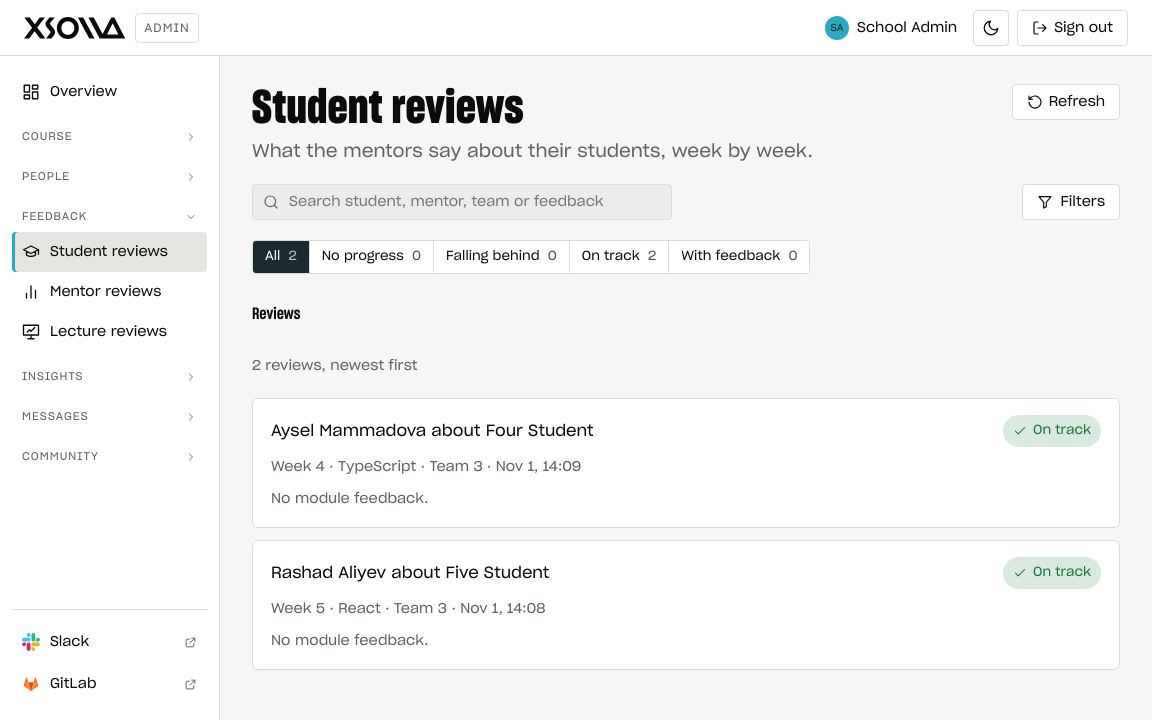
Scenario: Admin: student reviews › filters by week (named from the course) and by mentor
Click the button "Filters".
click(1071, 202)  # box [1022,184,1120,220]
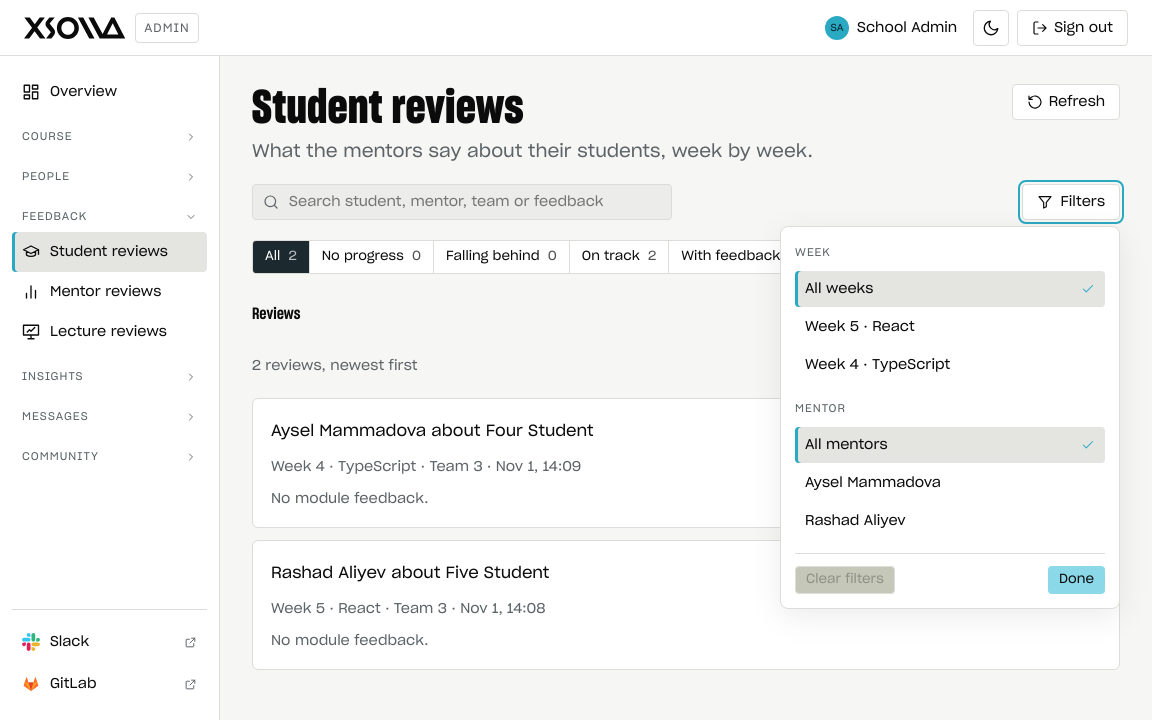
Now the text "All weeks" is shown, box [805,282,873,296]
Click the radio button labelled "Week 4 · TypeScript".
click(878, 365)  # box [805,358,950,372]
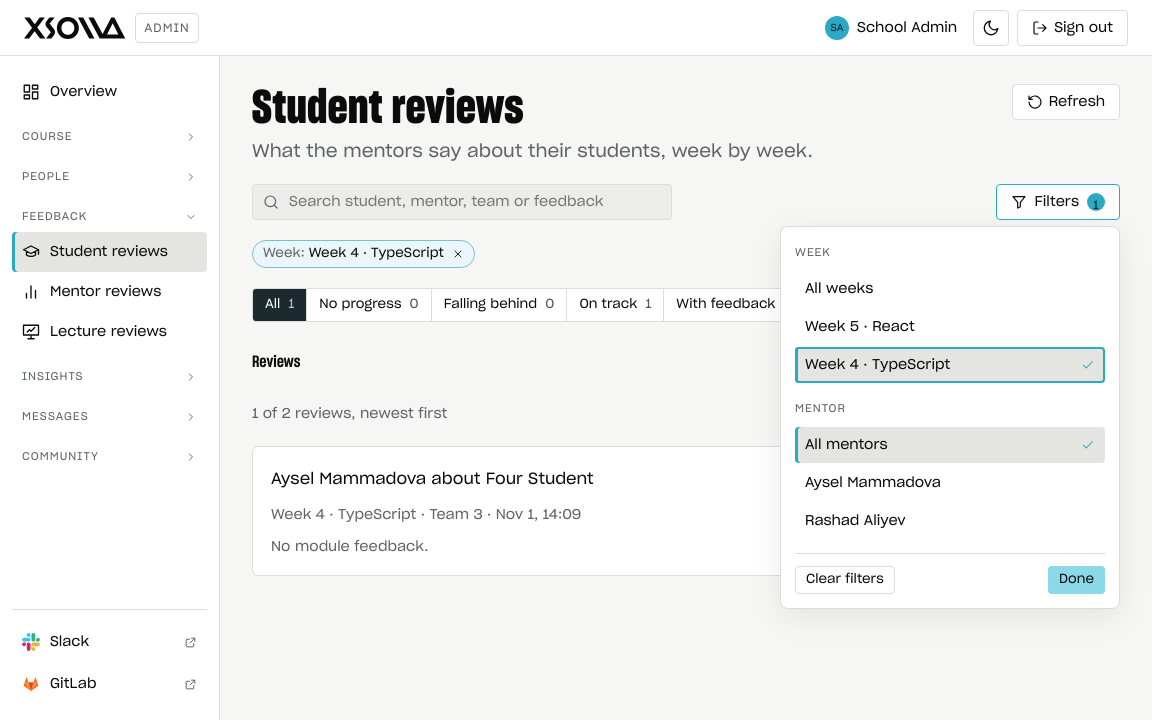
Click the button "Clear filters".
click(845, 580)  # box [795,566,895,594]
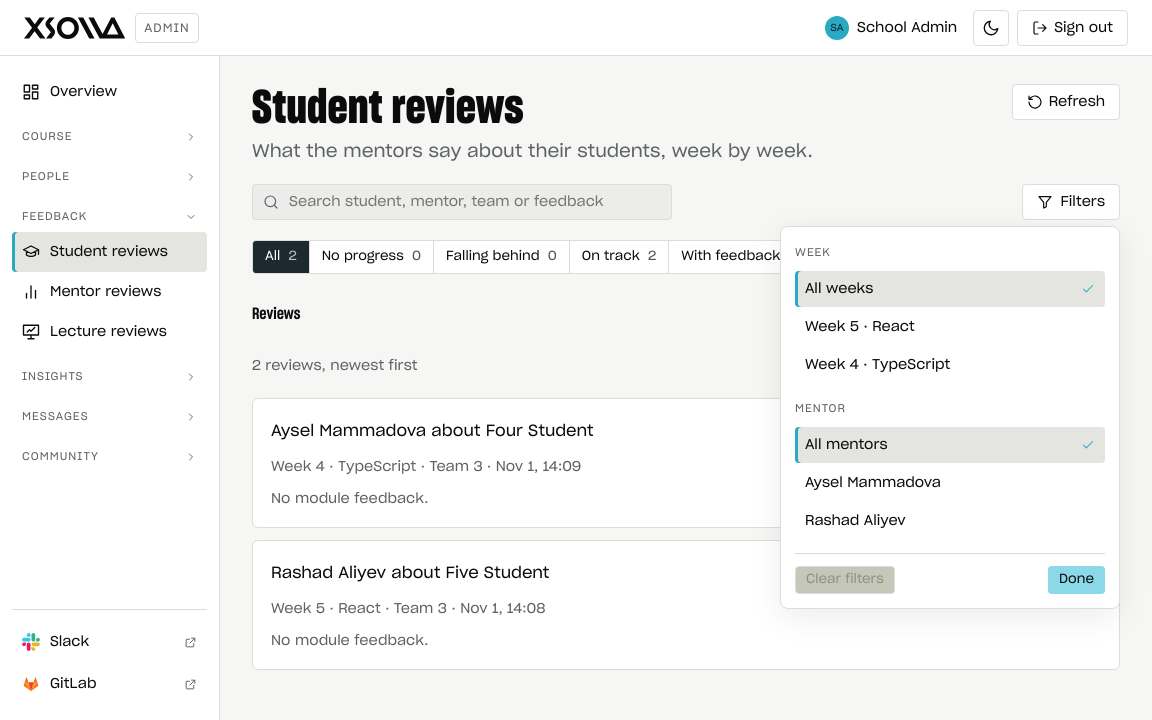
Click the radio button labelled "Rashad Aliyev".
click(855, 521)  # box [805,514,906,528]
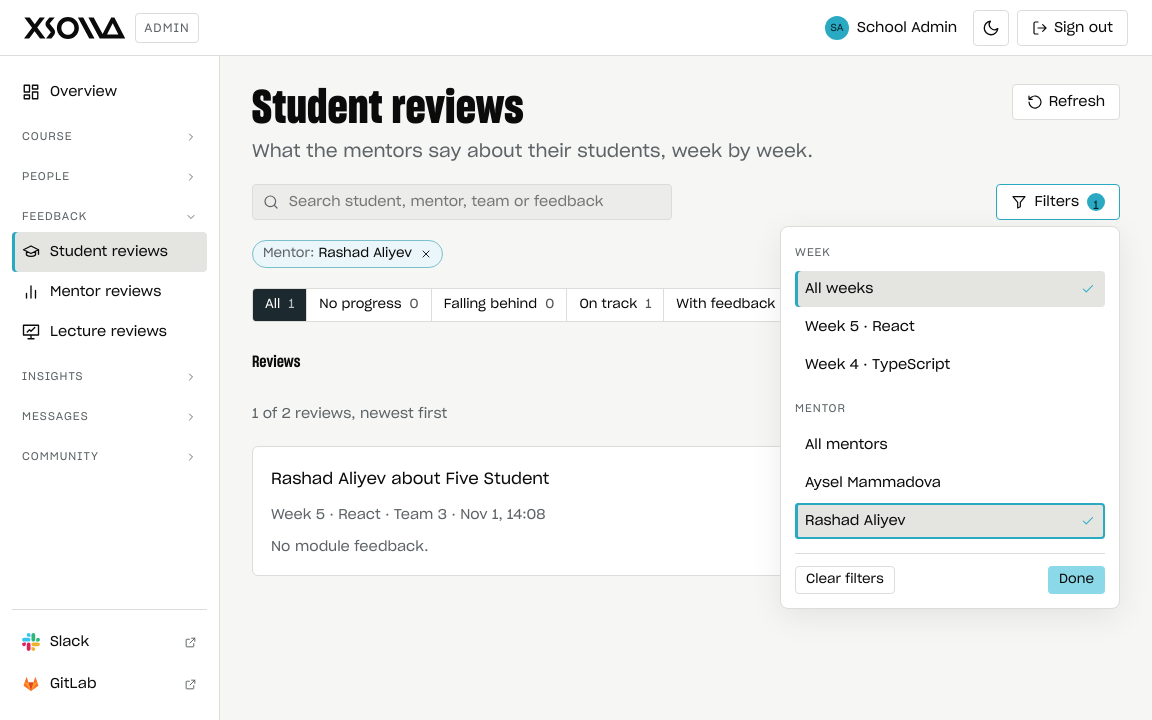
Now the list named "Active filters" reads "Mentor: Rashad Aliyev", box [252,240,443,268]
